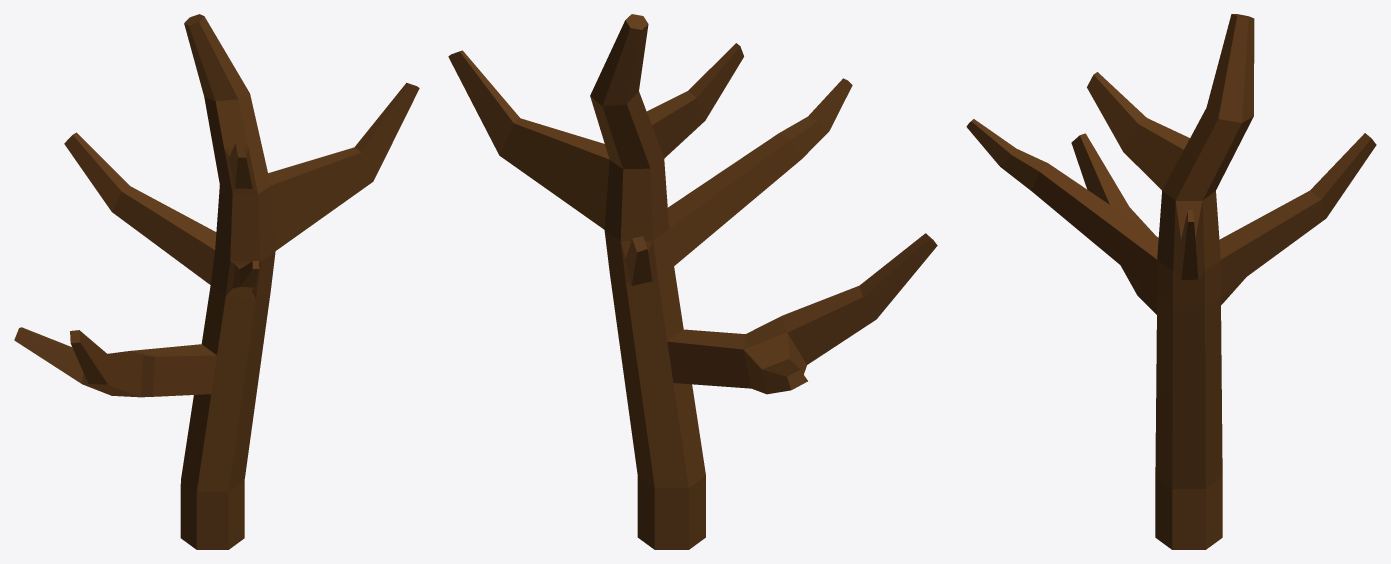
The model's file is dead_tree.fbx.
3 renders of one model, left to right at view 1: azimuth 30°, elevation 25°; view 2: azimuth 150°, elevation 25°; view 3: azimuth 270°, elevation 25°, orthographic. The views are drawn at different scales.
Visible parts, largest first — view 1: Cylinder; view 2: Cylinder; view 3: Cylinder.
Boxes of the visible parts, box(x1,y1,x2,y2) form: Cylinder: box(14, 14, 419, 549); Cylinder: box(448, 14, 937, 549); Cylinder: box(966, 14, 1376, 549).
Size of the model in its own units: 1453 by 1735 by 1219.
